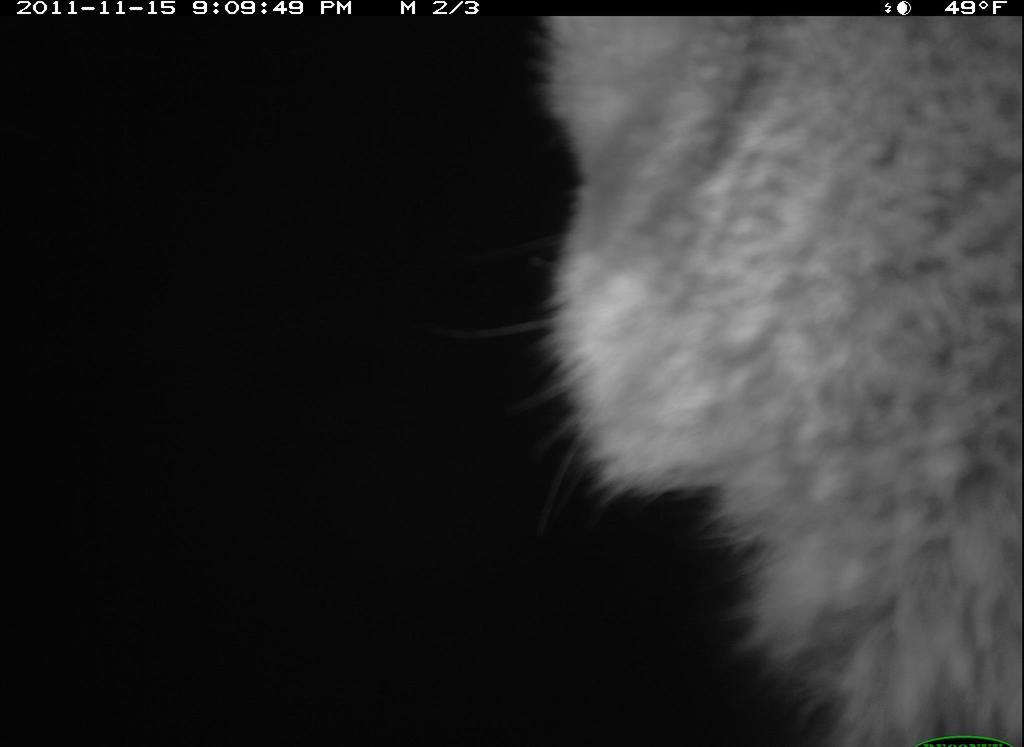raccoon: (501, 12, 1024, 744)
